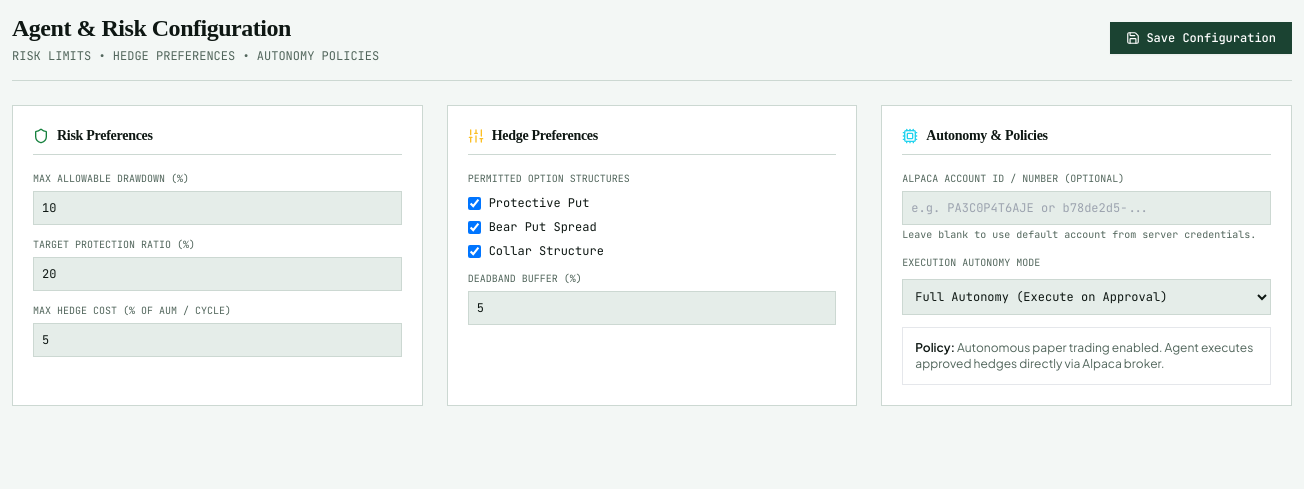
Test: Configuration Page Component (P8-FE-4) › validates invalid inputs and blocks saving
Replace the text in the number field with test id "input-drawdown-tolerance" with "99" at (217, 208), box [33,191,402,225]
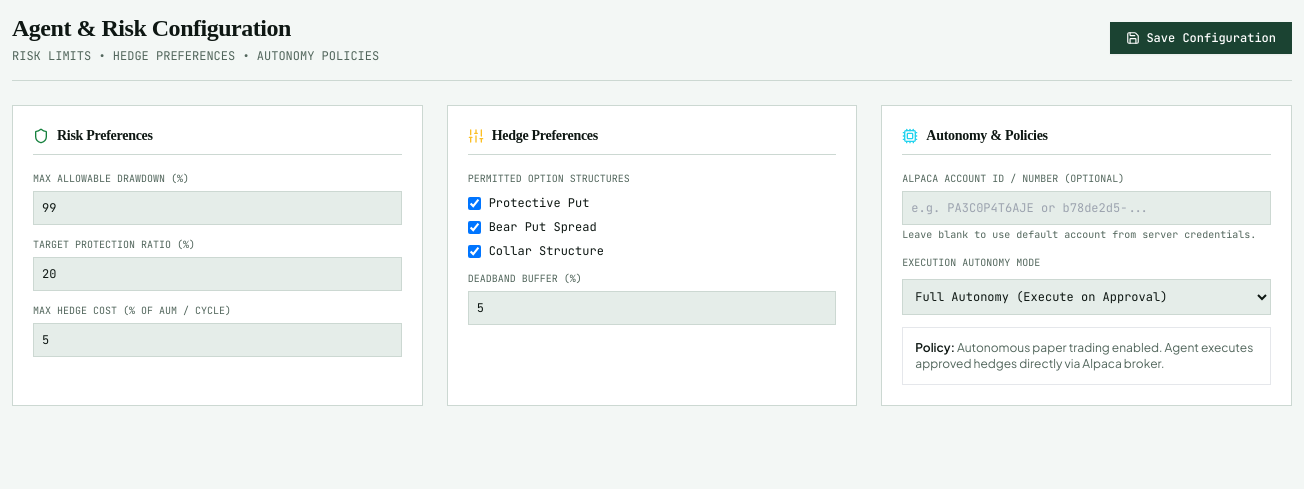
Click the button with test id "save-config-btn" at (1201, 38), box [1110,22,1292,54]
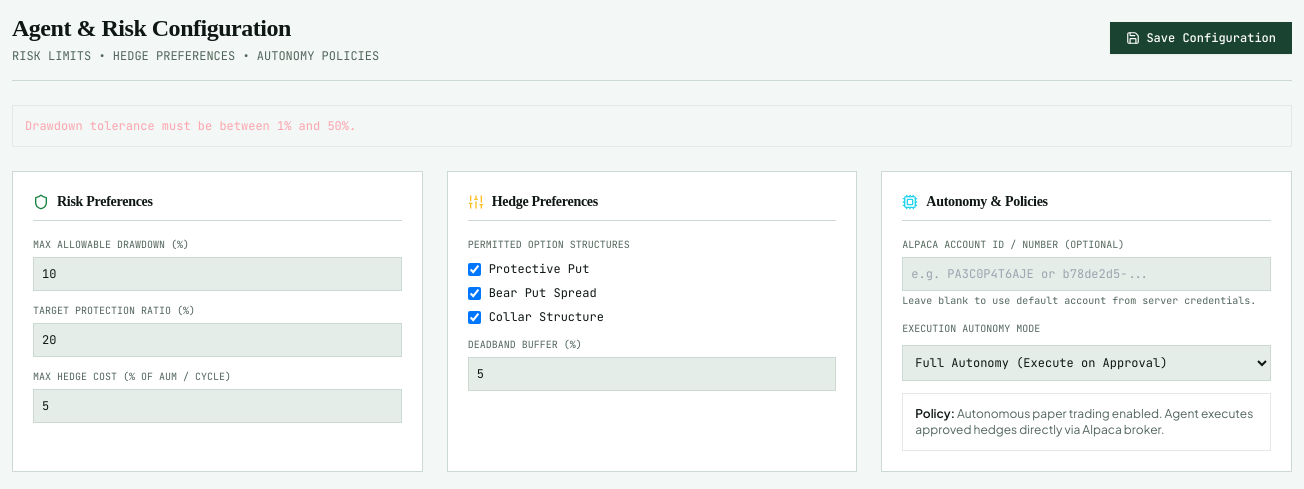
Check: the text with test id "validation-error" shows "Drawdown tolerance must be between 1% and 50%", box [25,118,356,134]
